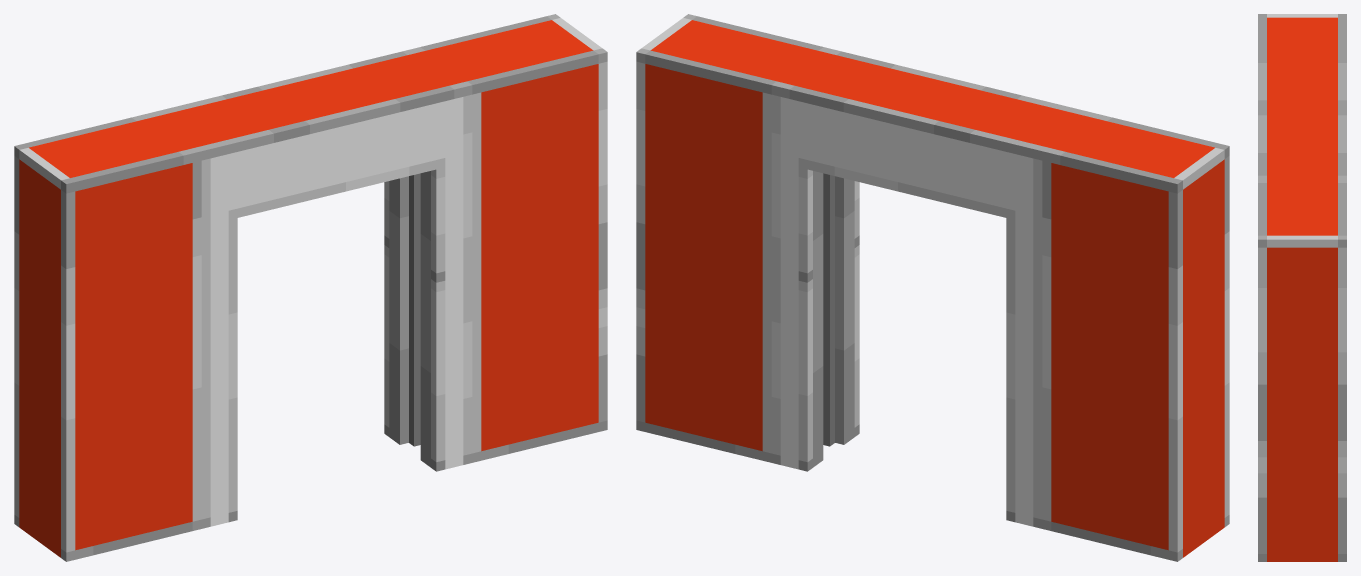
File: Engineering Doorway.obj
The picture shows the model from 3 angles, left to right: view 1: azimuth 30°, elevation 25°; view 2: azimuth 150°, elevation 25°; view 3: azimuth 270°, elevation 25°; orthographic projection. The views are drawn at different scales.
Bounding box in the file's own units: 60 × 40 × 10.
1 material, 1 textured.
